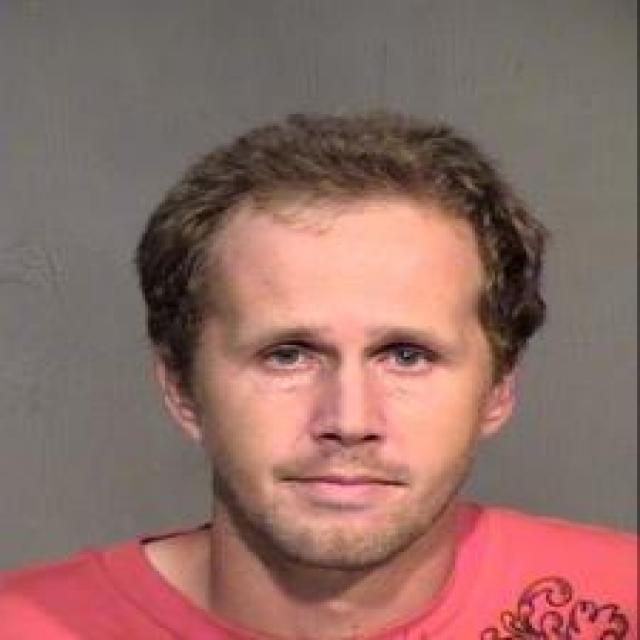0_rostro_limpio: (183, 164, 511, 575)
